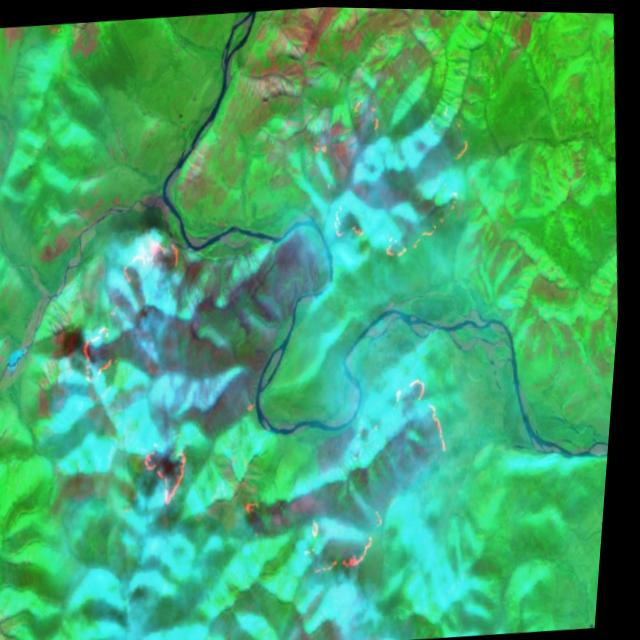fire: (223, 374, 462, 584), (299, 77, 489, 261), (68, 219, 210, 391), (137, 422, 201, 509)
